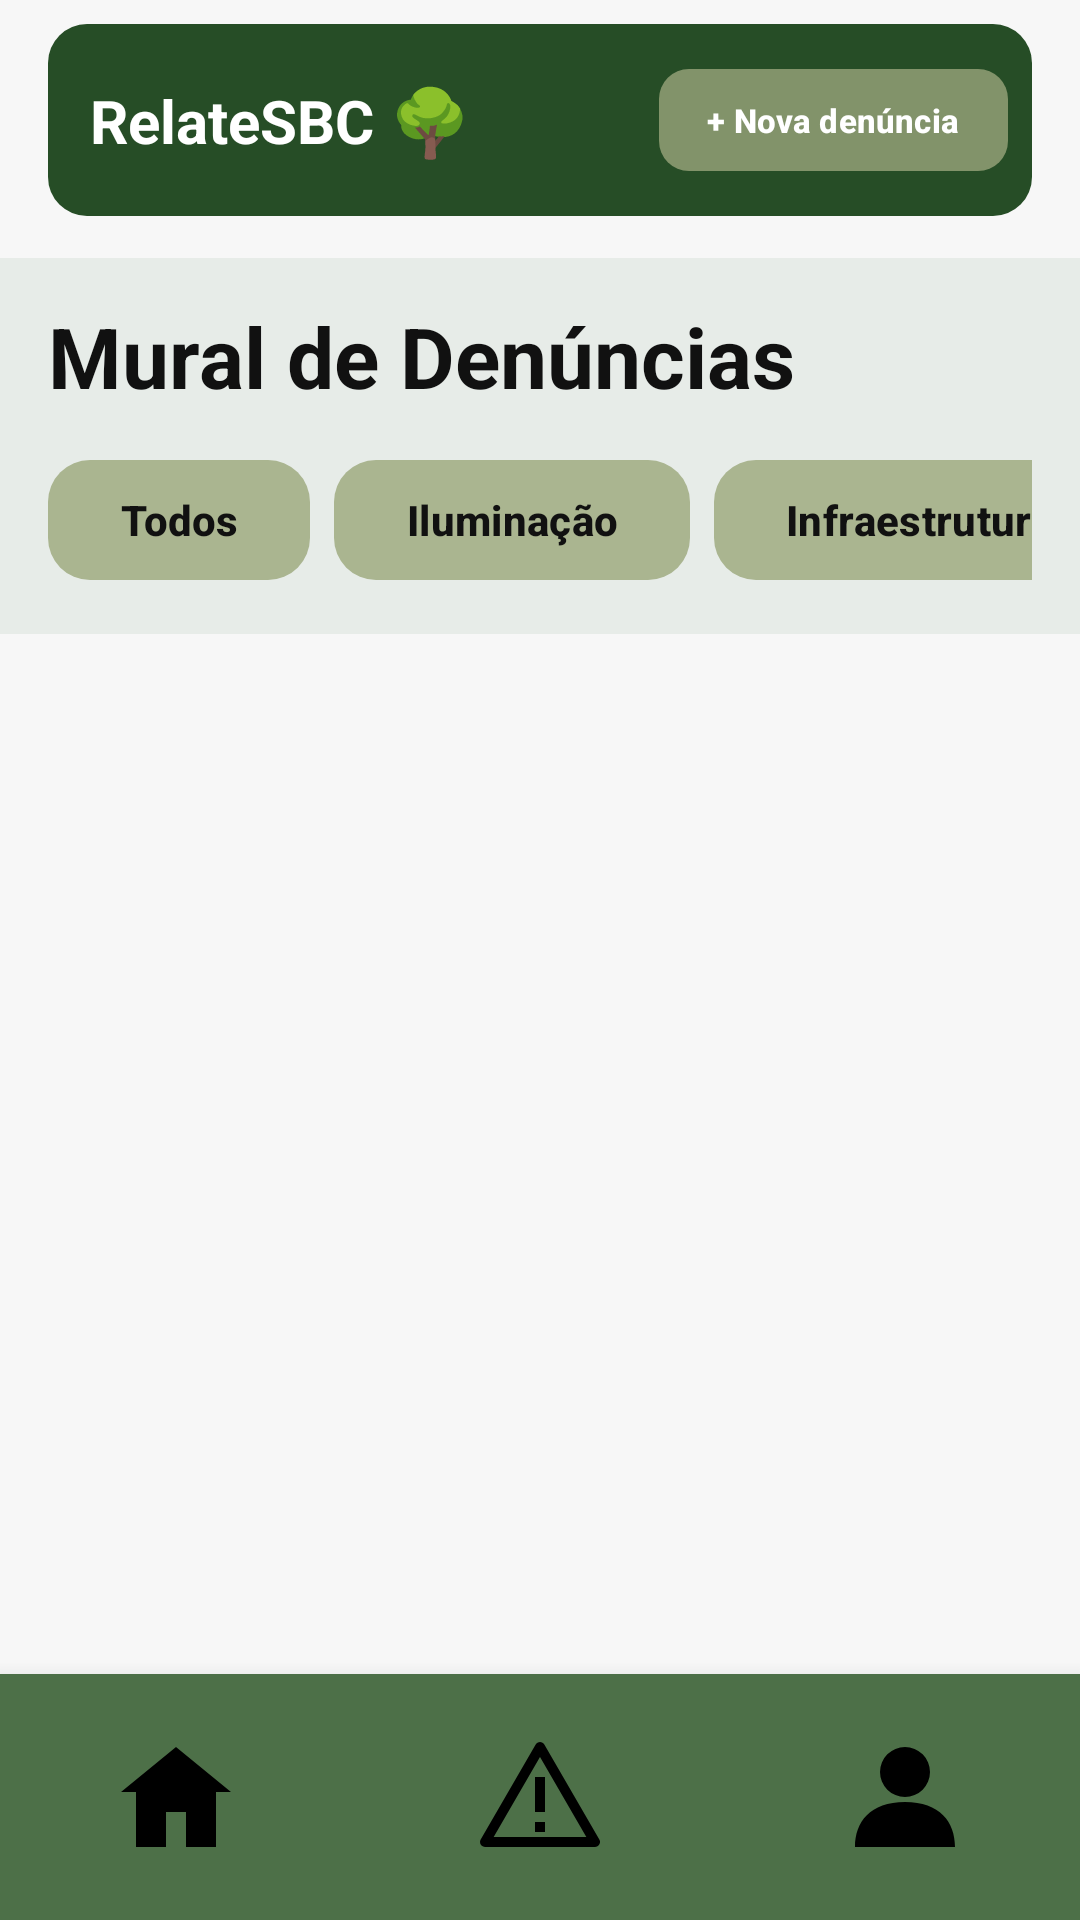

Icons on this 1080 × 1920 Android screen, each with its box as Rect(x1, y1, x2, y2):
Denúncia: Rect(480, 1742, 600, 1847)
Início: Rect(121, 1747, 231, 1847)
Perfil: Rect(855, 1747, 955, 1847)
